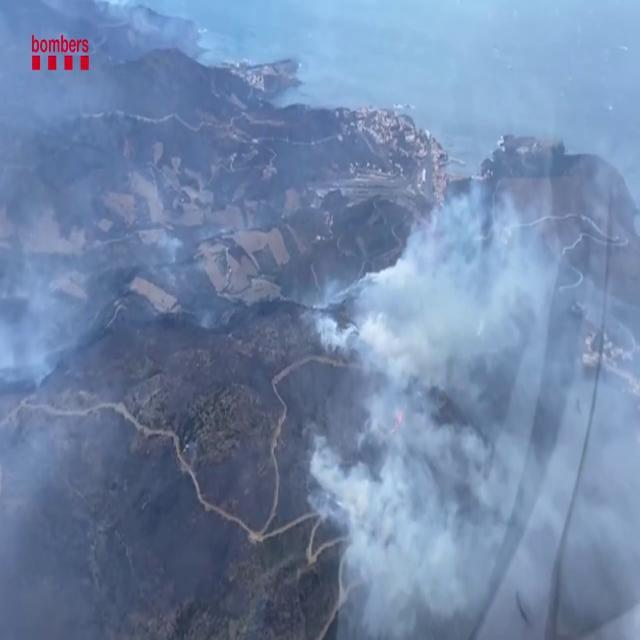Smoke: (297, 135, 640, 636)
